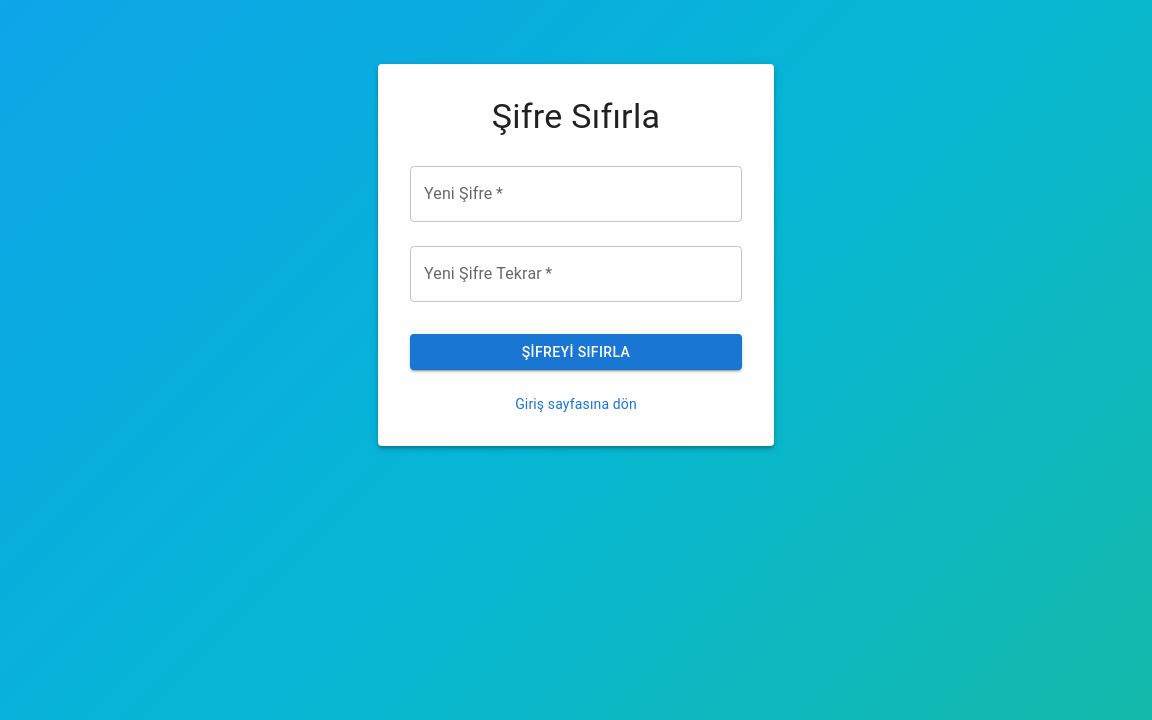
Test: ResetPassword Component › should handle error on submit
The width and height of the screenshot is (1152, 720).
Type "newpassword123" into the password field labelled "Yeni Şifre *" at (576, 194), box [410,166,742,222]
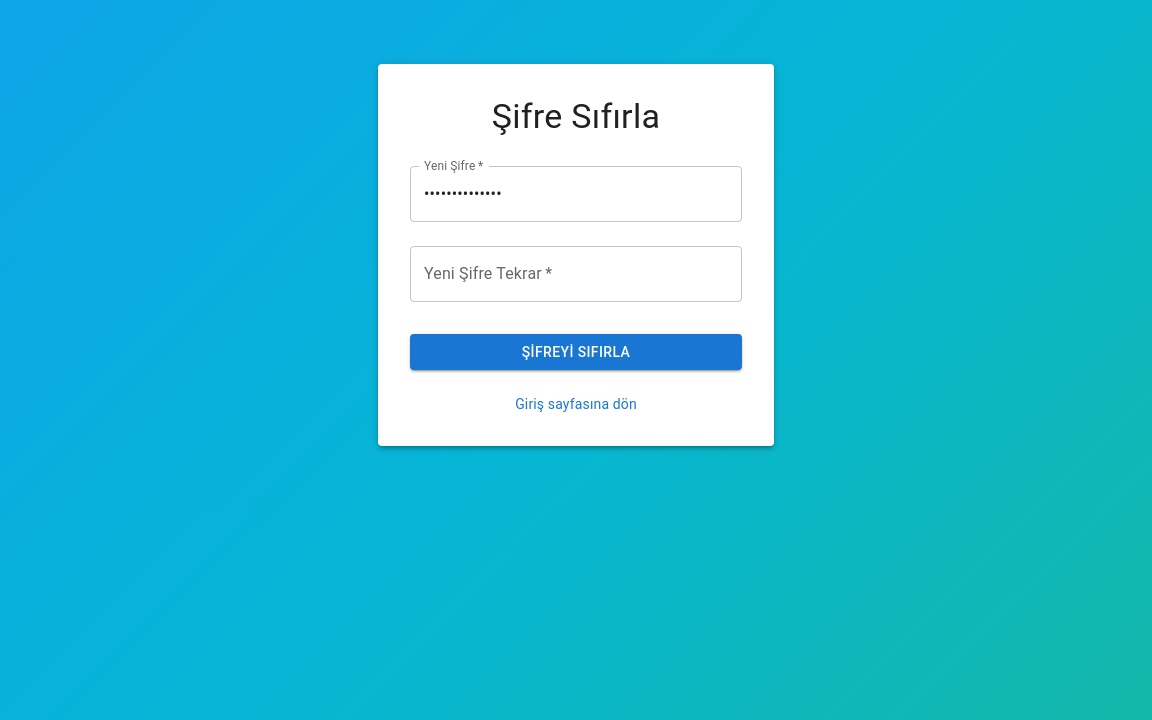
Type "newpassword123" into the password field with id "confirmPassword" at (576, 274), box [410,246,742,302]
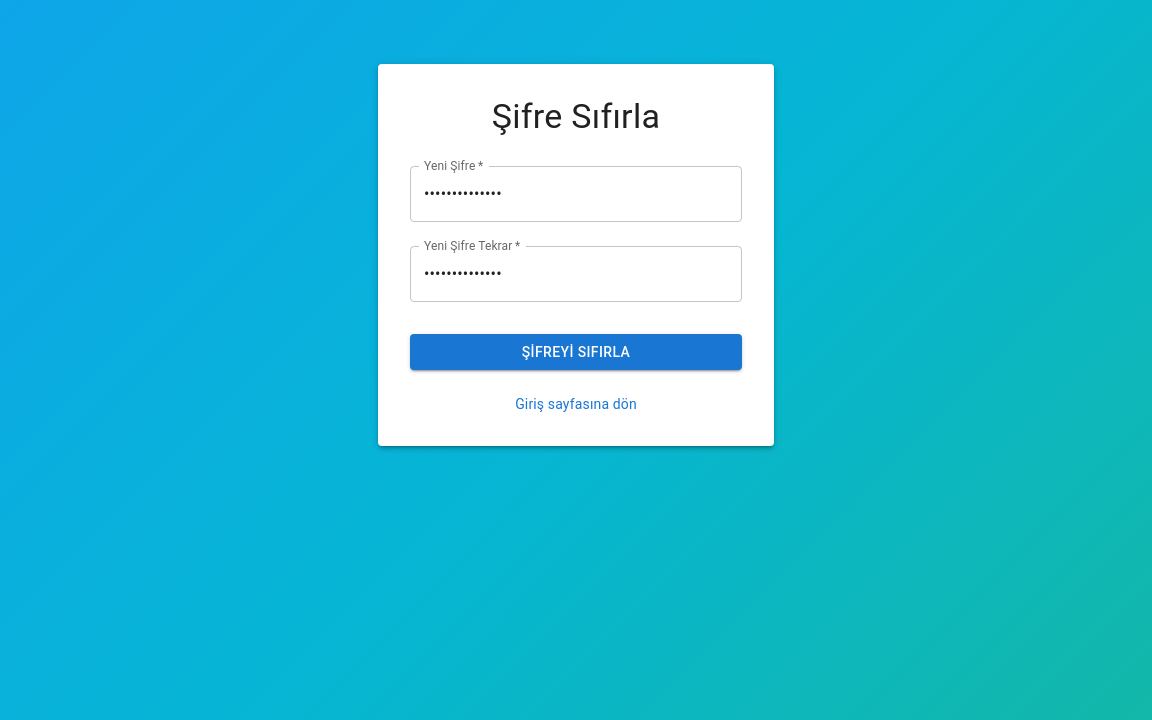
Click the button "Şifreyi Sıfırla" at (576, 352), box [410,334,742,370]
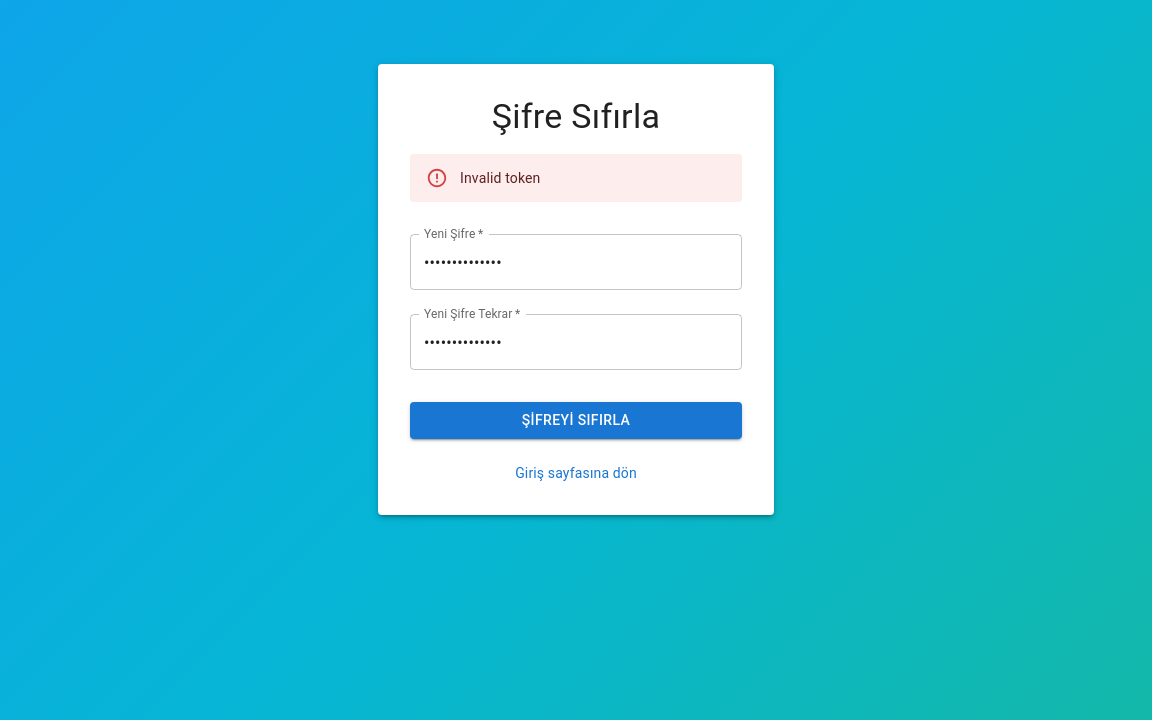
Expected: the text "Invalid token" is shown, [460,170,540,186]
